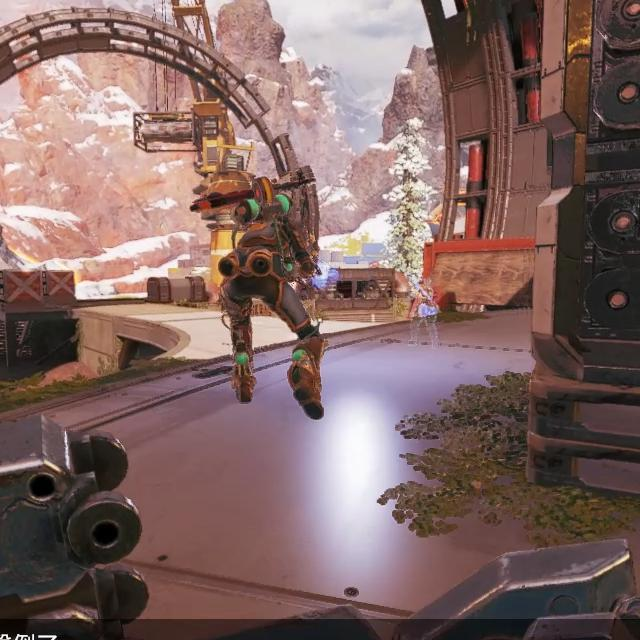avatar: (219, 177, 327, 420)
